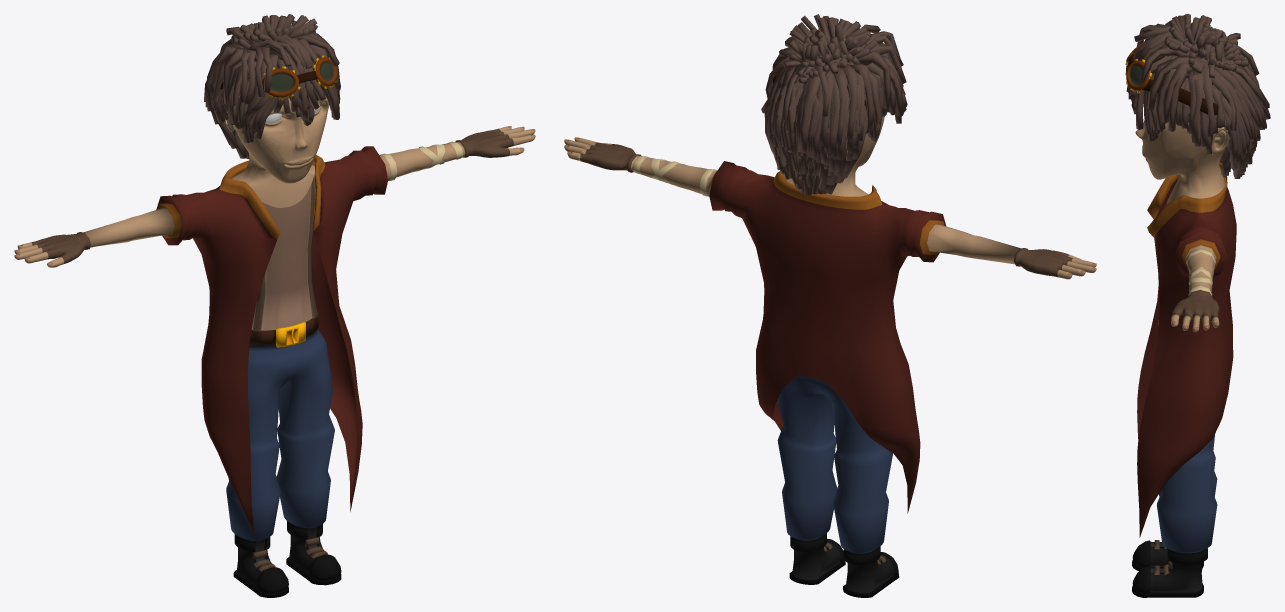
Rendered from Katelo low poly.fbx.
3 views of the same model, side by side, from view 1: azimuth 30°, elevation 25°; view 2: azimuth 150°, elevation 25°; view 3: azimuth 270°, elevation 25° (orthographic). The views are drawn at different scales.
Parts seen in each view (by area): view 1: Corps, Cheveux; view 2: Corps, Cheveux; view 3: Corps, Cheveux.
Boxes of the visible parts, x1,y1,x2,y2 form: Corps: (14,55,535,597); Cheveux: (204,14,340,159); Corps: (564,42,1096,597); Cheveux: (761,14,907,195); Corps: (1125,42,1236,597); Cheveux: (1126,14,1270,178).
Bounding box in the file's own units: 534 × 543 × 128.
